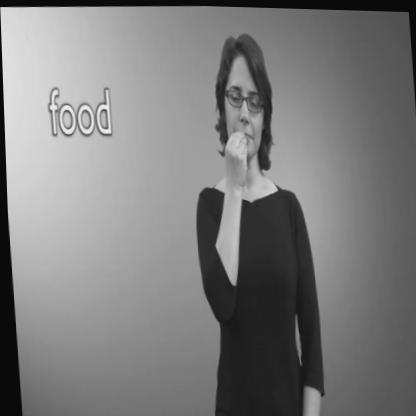Food: (197, 17, 293, 259)
